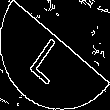L_NE: (30, 25, 80, 85)
